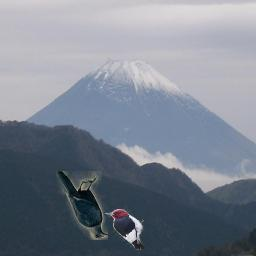Crow: (56, 171, 108, 240)
Woodpecker: (105, 209, 144, 250)
